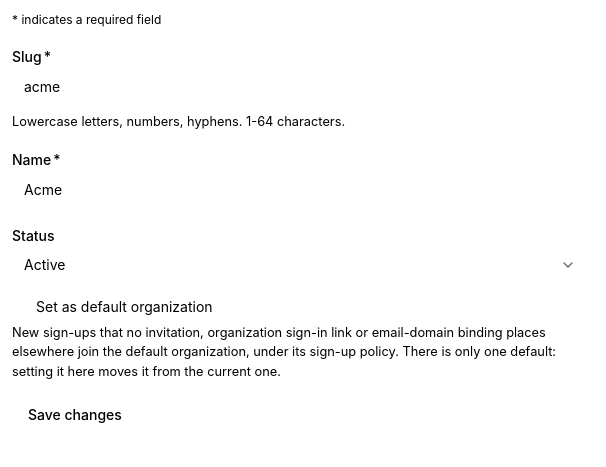
OrganizationSettingsForm › maps a 409 onto the slug field
The image size is (606, 467).
Type " Corp" into the field labelled "Name". click: (300,189)
box: top-left (12, 171), bottom-right (588, 207)
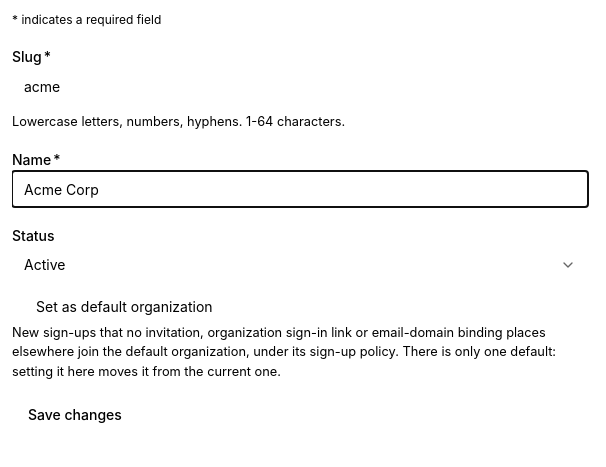
Click the button "Save changes". click: (75,415)
box: top-left (12, 397), bottom-right (138, 433)
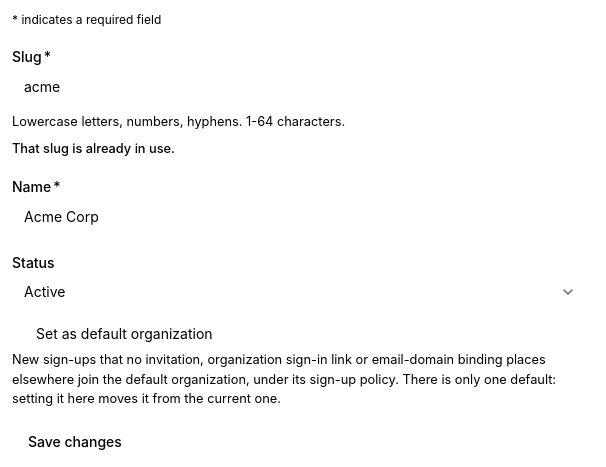
Expected: the text "That slug is already in use." is shown, top-left (12, 141), bottom-right (175, 156)
